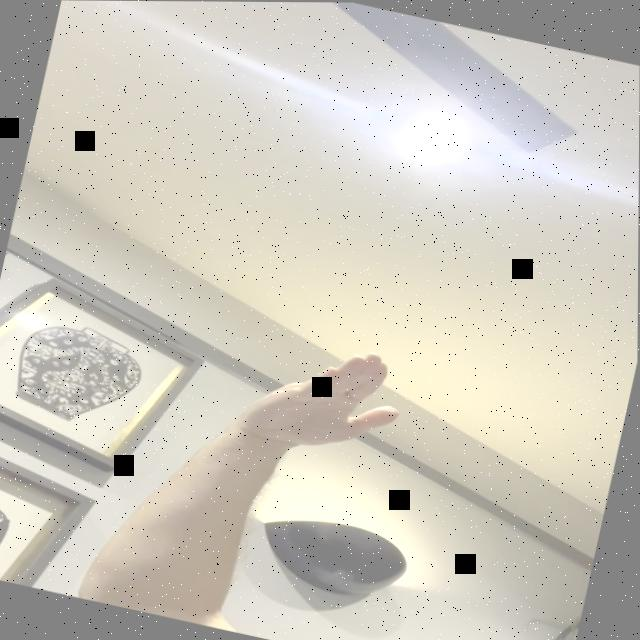Paper: (238, 326, 419, 464)
